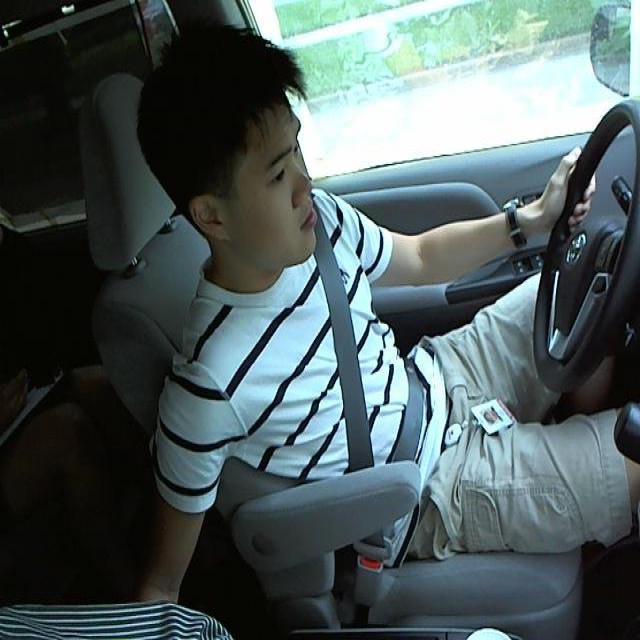seatbelt: (298, 245, 429, 500)
